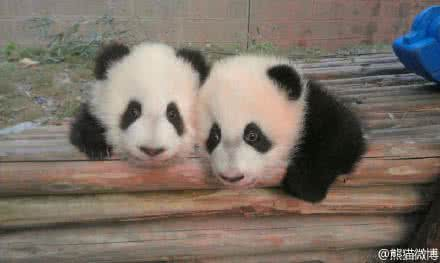panda: (194, 45, 367, 205), (67, 29, 211, 179)
